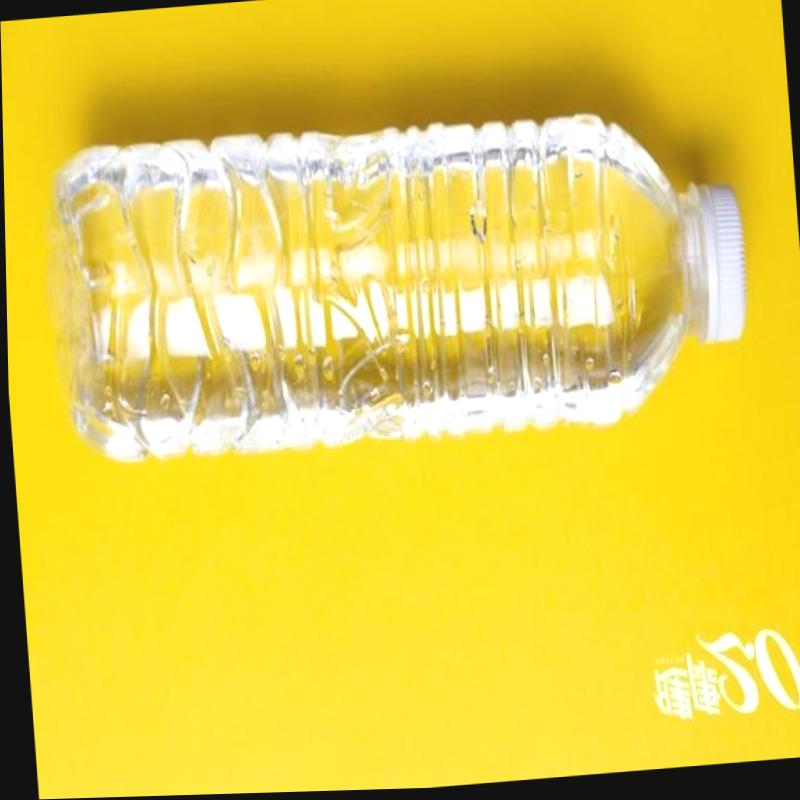botella: (38, 93, 756, 469)
